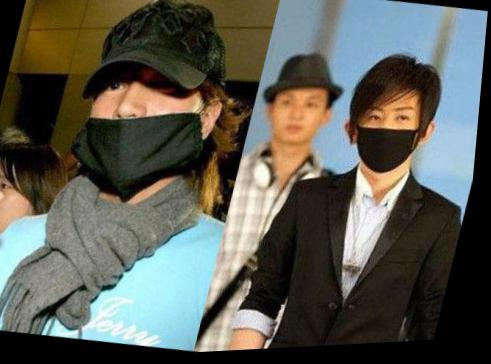NONE: (273, 92, 329, 150), (1, 169, 36, 238)
OK: (344, 97, 432, 182)
WRONG: (72, 45, 223, 192)
